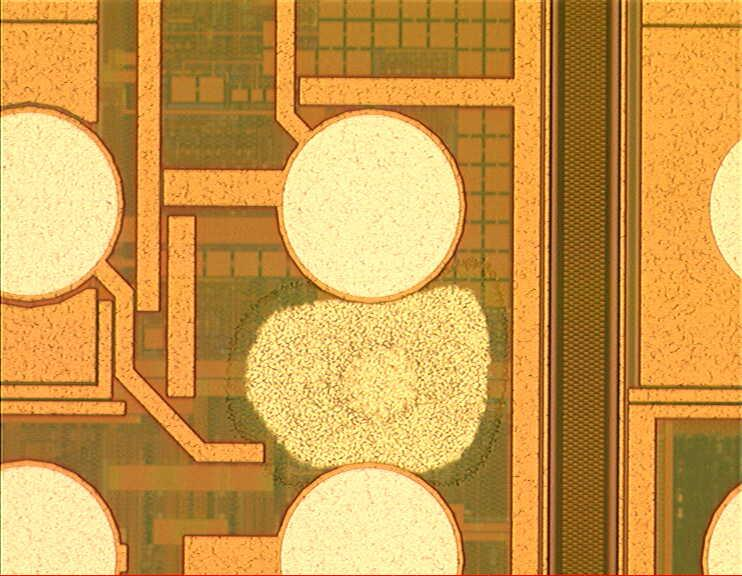BLOCK ETCH: (219, 251, 525, 496)
